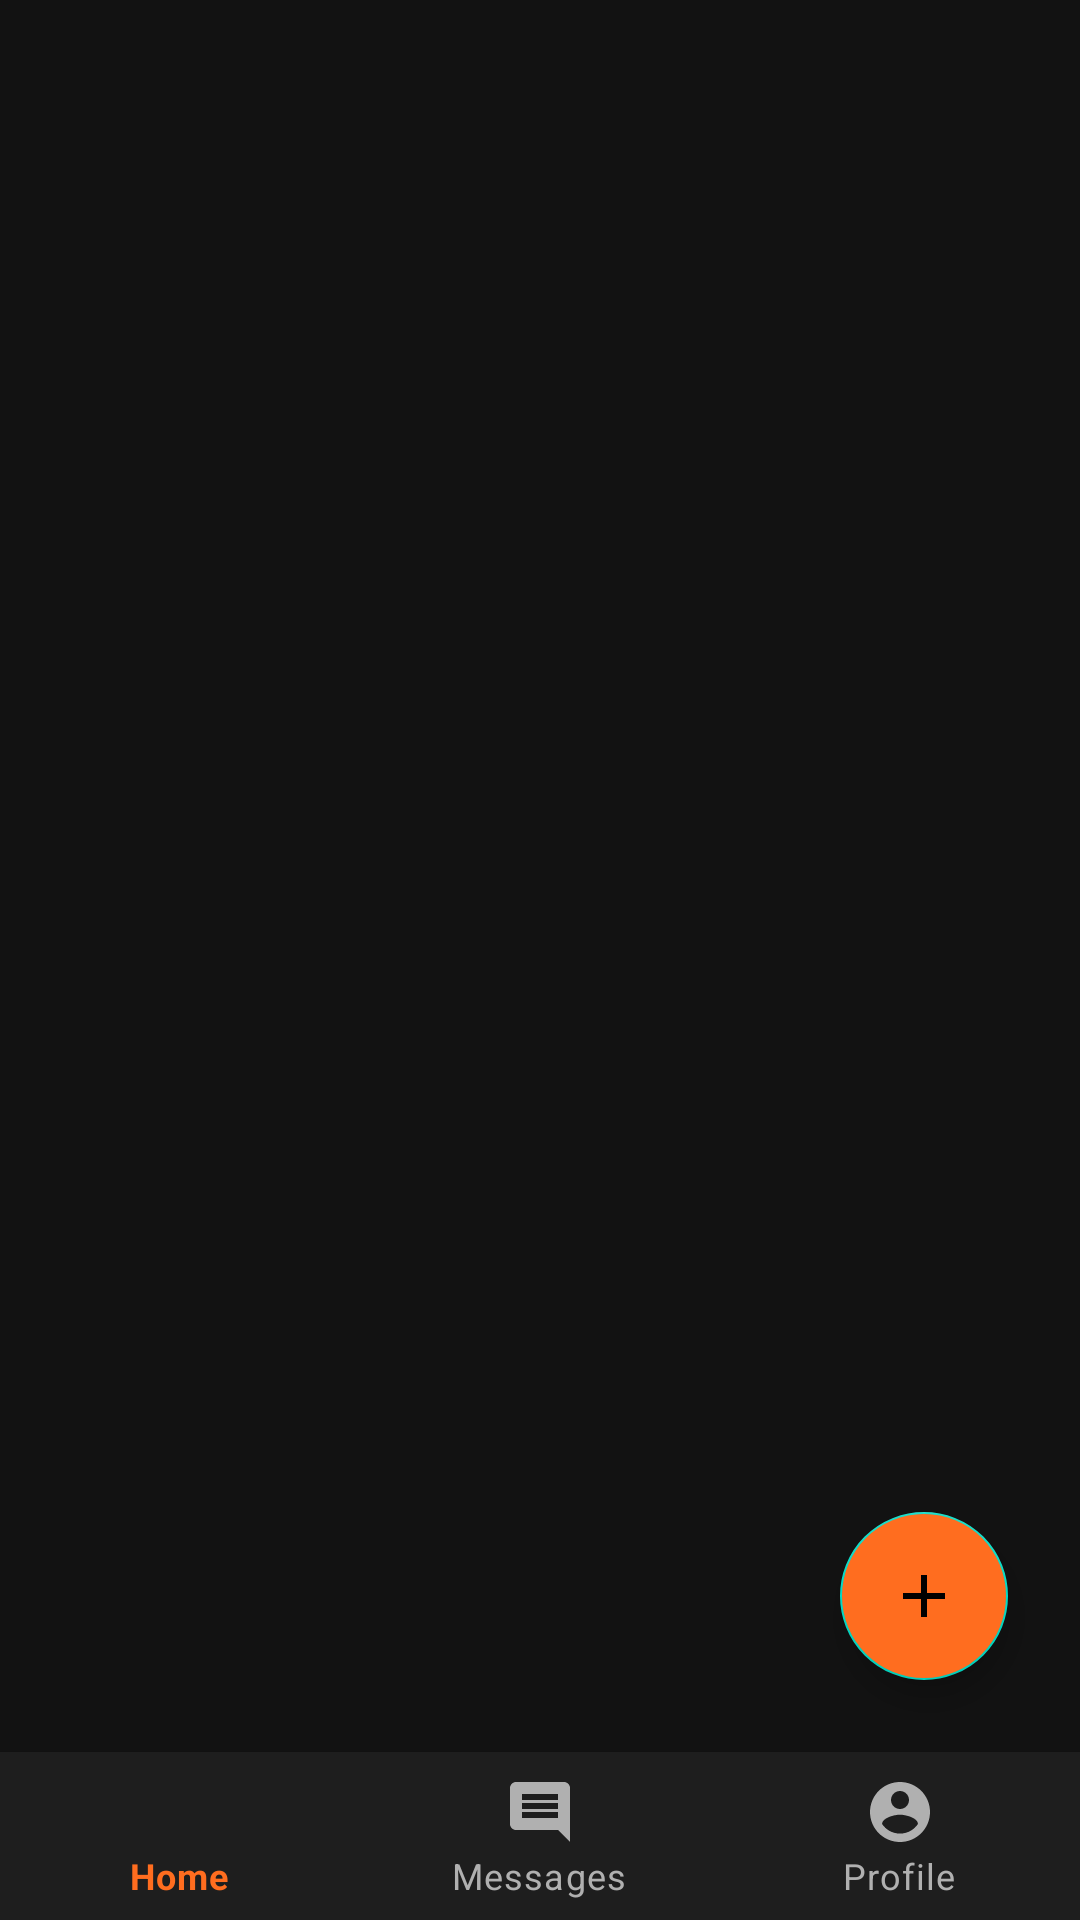

Point at icon controls on the screen. Image size 1080 x 1920, points as point (x, y).
add: point (924, 1596)
